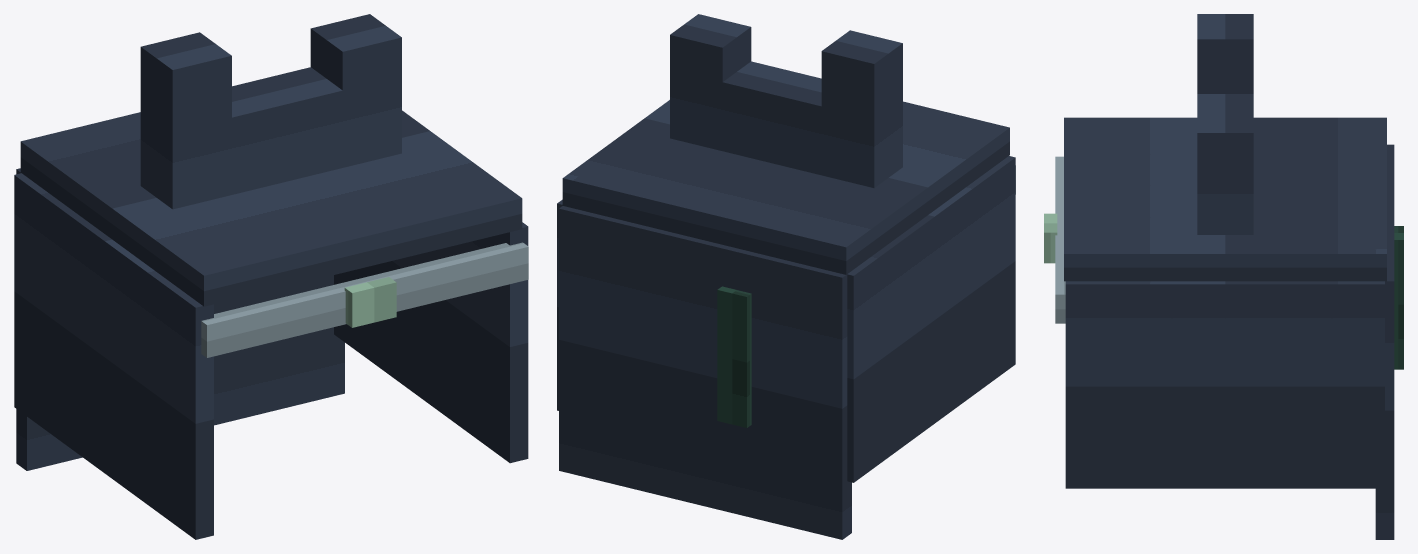
The model's file is zhuji_wuyao_yeque_helmet.obj.
3 renders of one model, left to right at view 1: azimuth 30°, elevation 25°; view 2: azimuth 150°, elevation 25°; view 3: azimuth 270°, elevation 25°, orthographic. The views are drawn at different scales.
Visible parts, largest first — view 1: cap_top, cap_side_-1, night_crown, cap_side_1, cap_back, cap_brow, night_brow_jade; view 2: cap_back, cap_top, cap_side_-1, night_crown, night_cap_back; view 3: cap_side_1, cap_top, night_crown, cap_back, cap_brow, night_cap_back, night_brow_jade.
Boxes of the visible parts, box(x1,y1,x2,y2) form: cap_top: box(20, 110, 522, 306); cap_side_-1: box(14, 173, 213, 539); night_crown: box(140, 14, 401, 209); cap_side_1: box(334, 222, 528, 463); cap_back: box(16, 168, 344, 470); cap_brow: box(201, 242, 528, 357); night_brow_jade: box(344, 277, 396, 327); cap_back: box(559, 206, 851, 539); cap_top: box(562, 100, 1009, 274); cap_side_-1: box(847, 156, 1015, 482); night_crown: box(670, 14, 902, 187); night_cap_back: box(717, 286, 751, 427); cap_side_1: box(1065, 281, 1384, 488); cap_top: box(1064, 117, 1386, 281); night_crown: box(1197, 14, 1253, 234); cap_back: box(1375, 144, 1394, 539); cap_brow: box(1055, 156, 1065, 323); night_cap_back: box(1394, 226, 1403, 369); night_brow_jade: box(1044, 213, 1057, 263).
Bounding box in the file's own units: 0.5625 × 0.75 × 0.5984.
